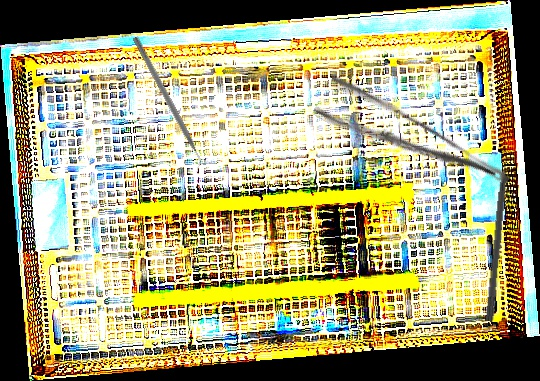Chopper: (125, 35, 208, 175)
Dressing Forceps: (311, 71, 513, 216)
Pusher: (484, 147, 514, 323)
